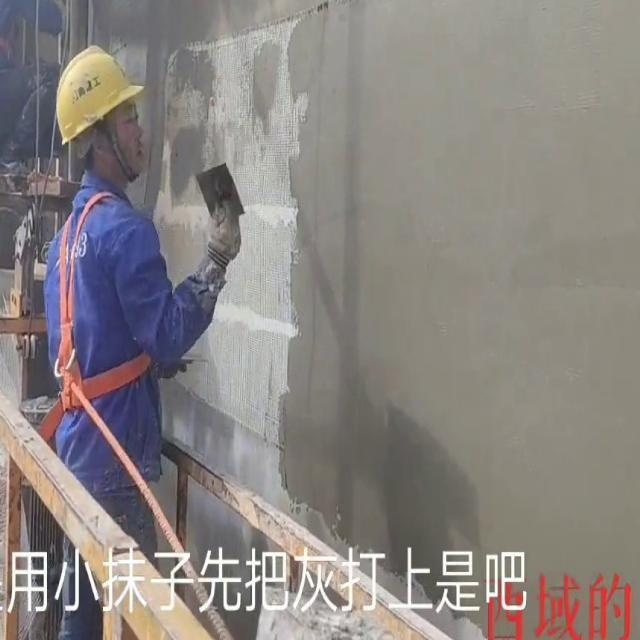Arnes_seguridad: (46, 183, 166, 420)
